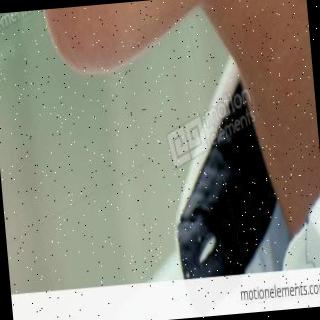smoke: (0, 7, 77, 103)
